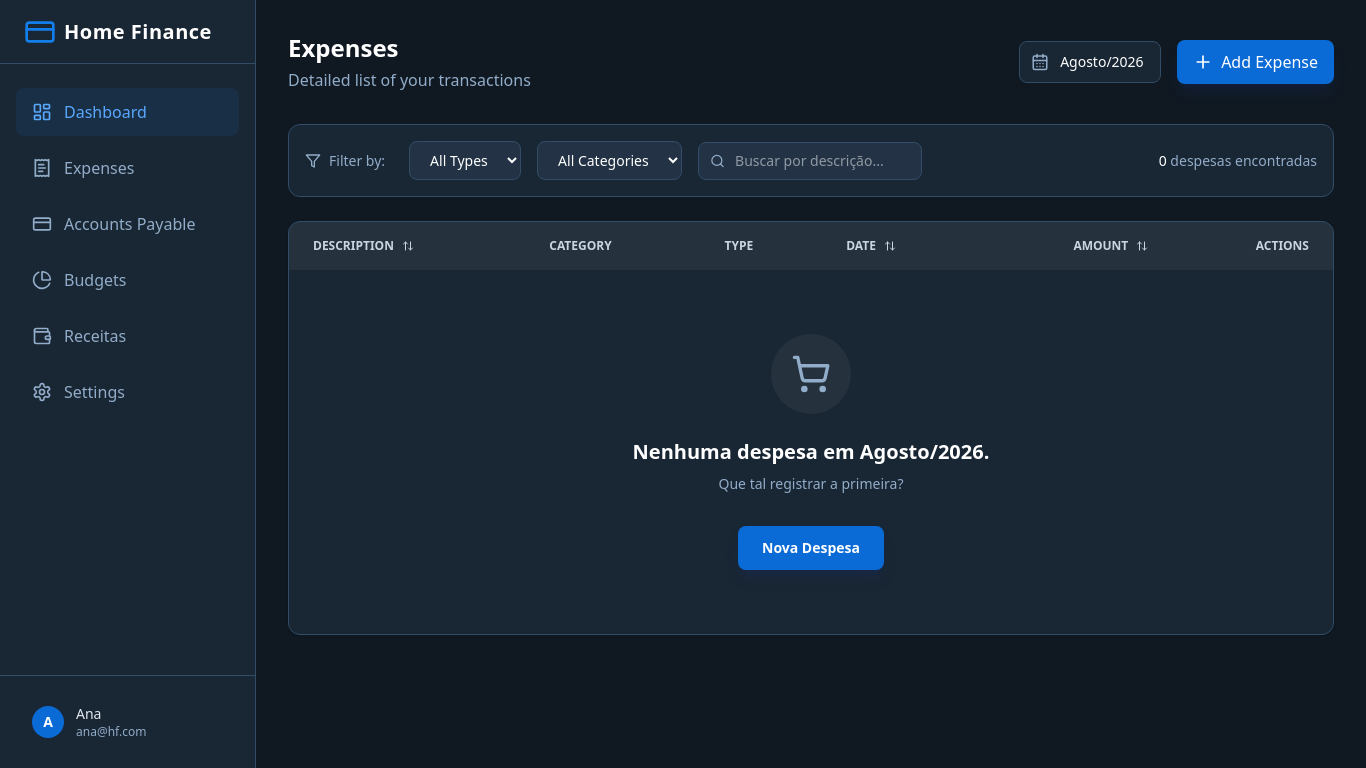
Expenses (integração) › abre o modal de nova despesa
The width and height of the screenshot is (1366, 768).
Click the button "Add Expense" at (1256, 62), box left=1177, top=40, right=1334, bottom=84
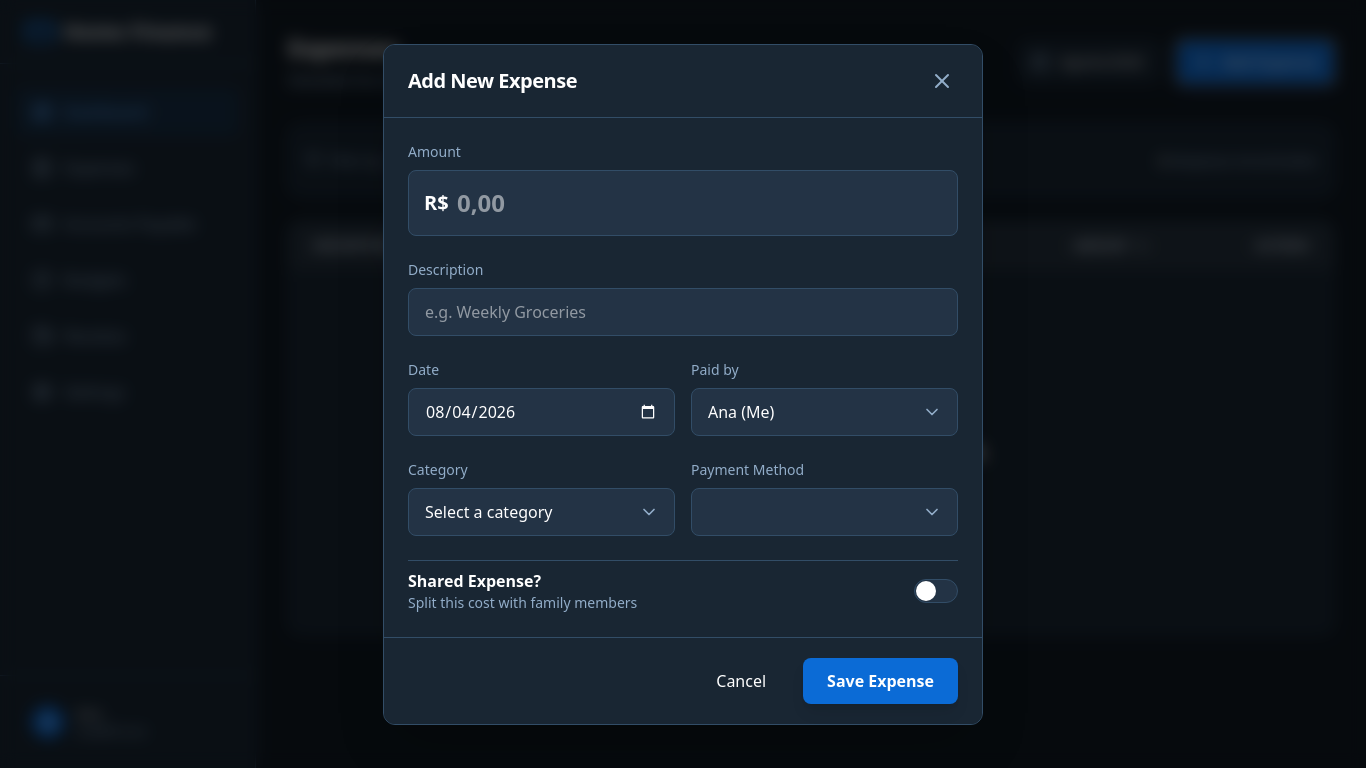
Now the heading "Add New Expense" is shown, box left=408, top=66, right=577, bottom=94
